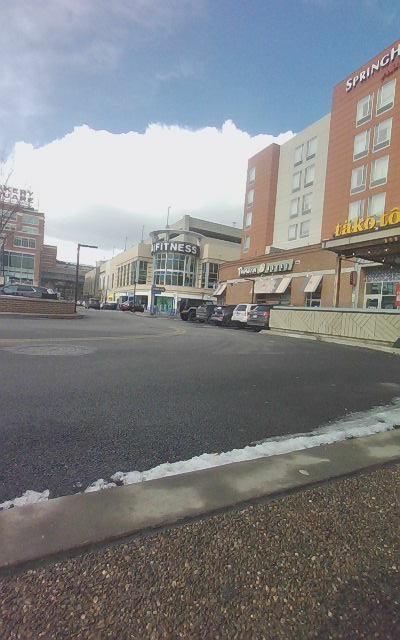curb: (0, 431, 399, 639)
road: (0, 311, 399, 510)
